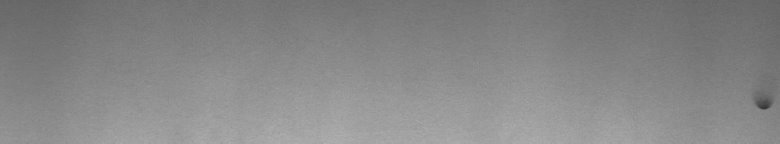fi: (752, 93, 776, 116)
